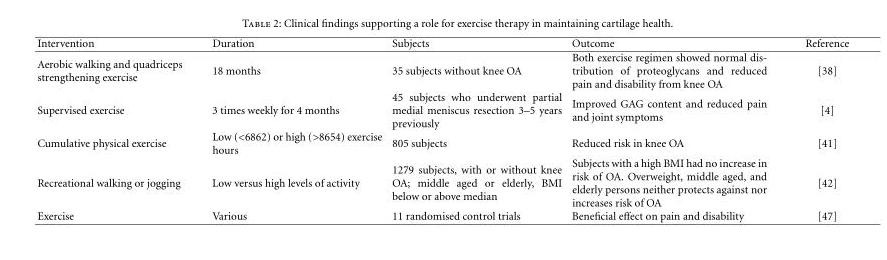table: (37, 36, 849, 221)
table column: (567, 36, 786, 221), (197, 36, 387, 221), (387, 36, 567, 221), (37, 36, 197, 221), (786, 36, 849, 221)
table column header: (37, 36, 849, 49)
table row: (37, 156, 849, 208), (37, 49, 849, 90), (37, 90, 849, 129), (37, 129, 849, 156), (37, 36, 849, 49), (37, 208, 849, 221)
